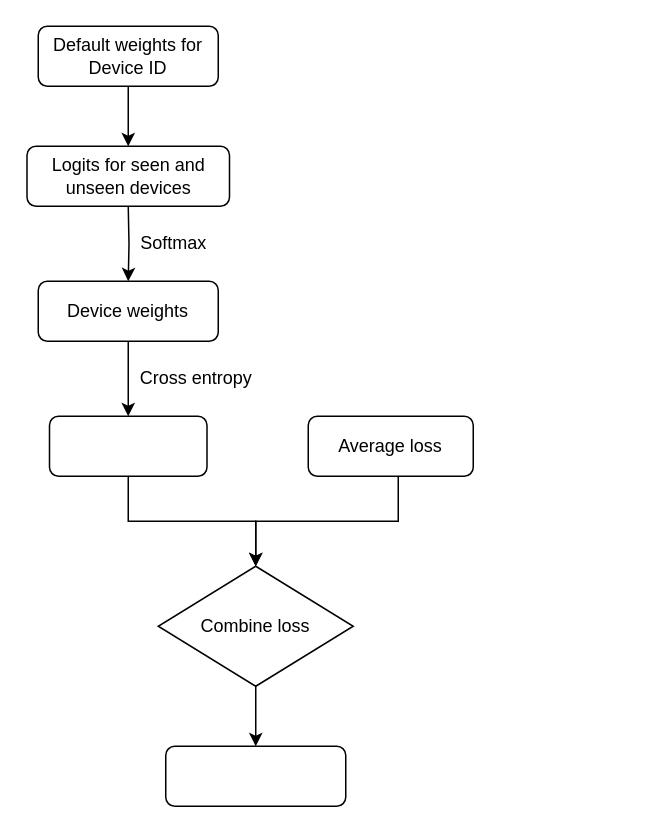
This 647x833 diagram has some shape labels left out. The box of each missing label's shape, as (x1, y1, x2, y2) in pixels:
Learnable loss weights: (164, 745, 346, 806)
Weighted loss: (48, 415, 207, 476)
